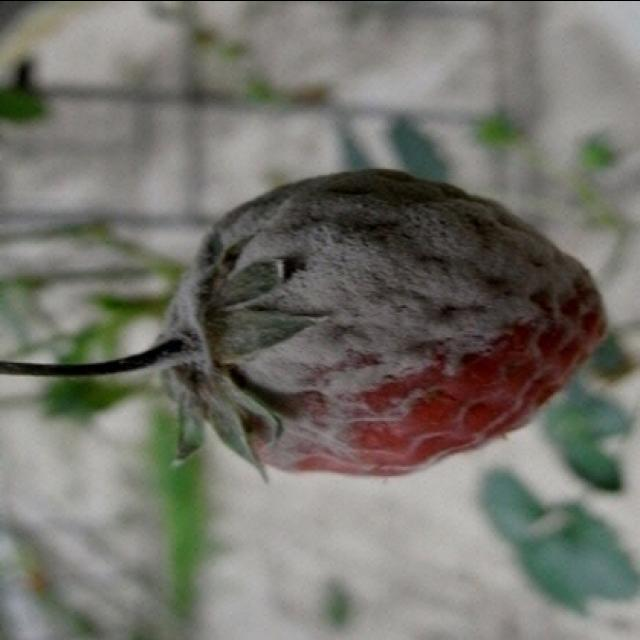Gray Mold: (147, 165, 604, 487)
